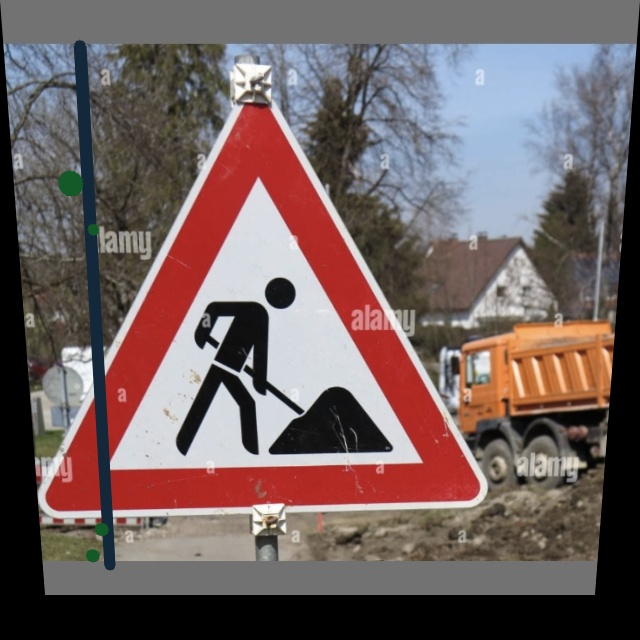Men_at_Work: (75, 111, 472, 498)
